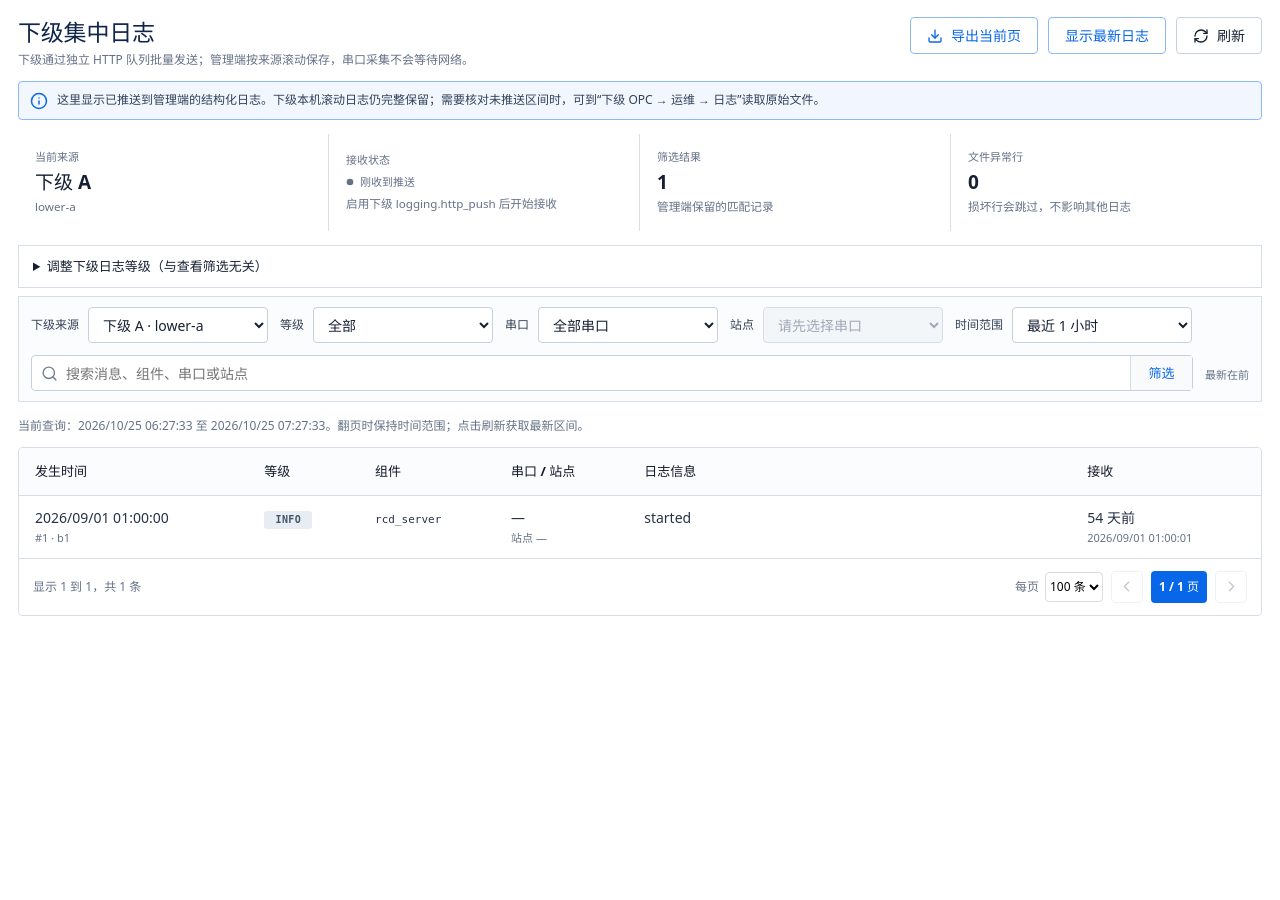
Test case: central lower log filters › shows the active lower logging state and saves a revision-pinned level
Click the heading "调整下级日志等级（与查看筛选无关）" at (157, 266), box [47,257,268,275]
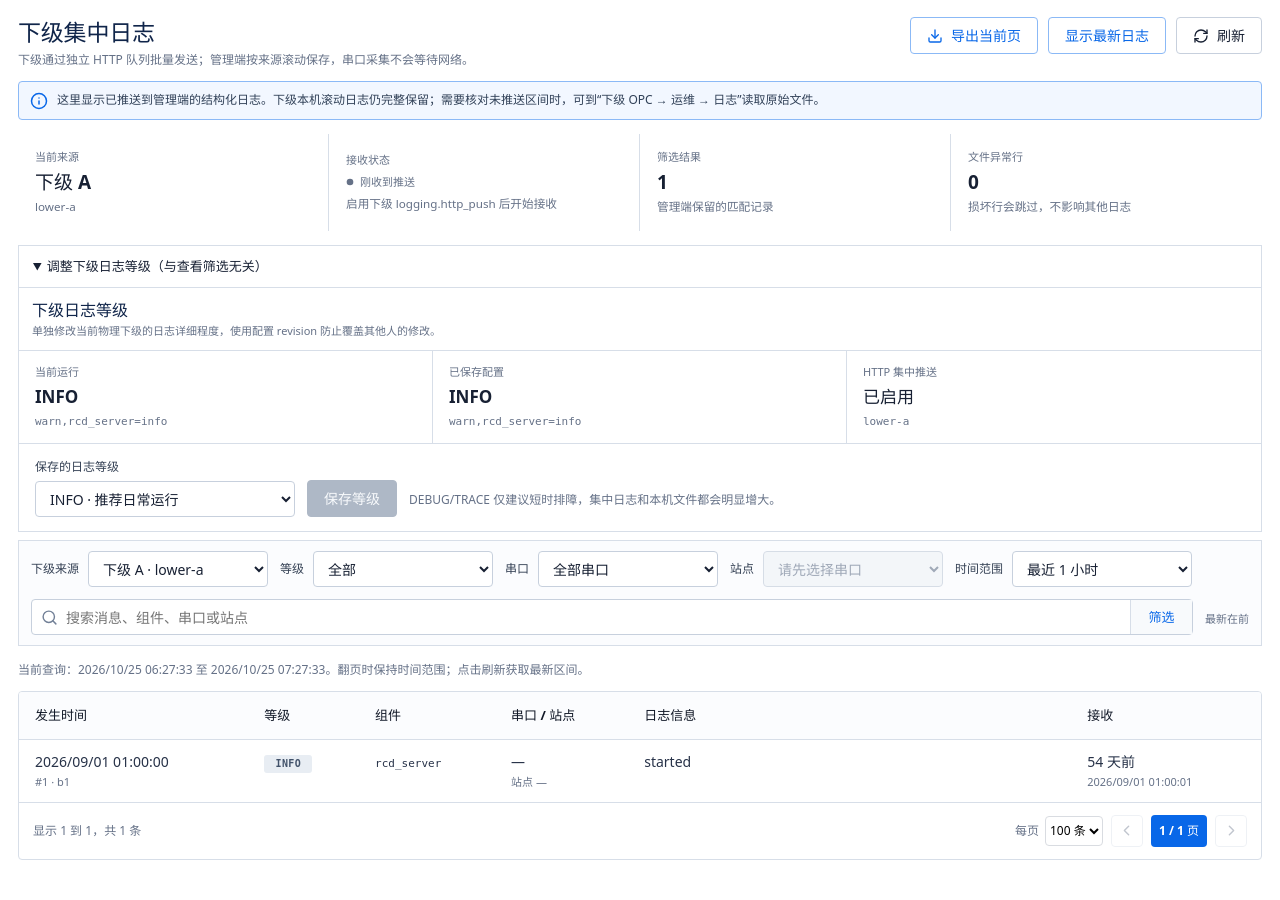
expect the text "HTTP 集中推送" is shown: met, box [863,364,937,379]
expect the text "已启用" is shown: met, box [863,385,914,408]
Select "DEBUG · 详细排障" in the dropdown labelled "保存的日志等级" at (165, 499), box [35,481,295,517]
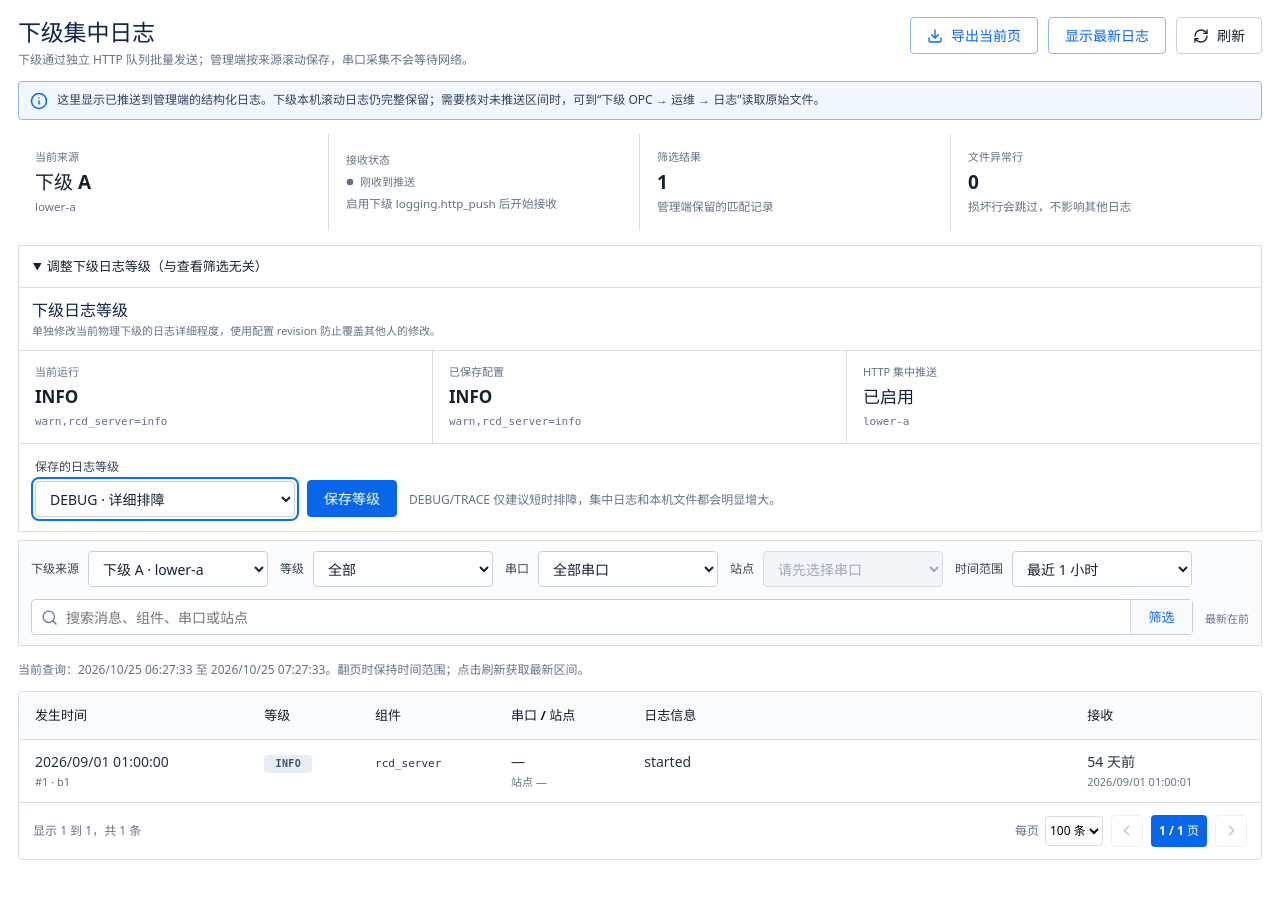
Click the button "保存等级" at (352, 499), box [307,480,397,517]
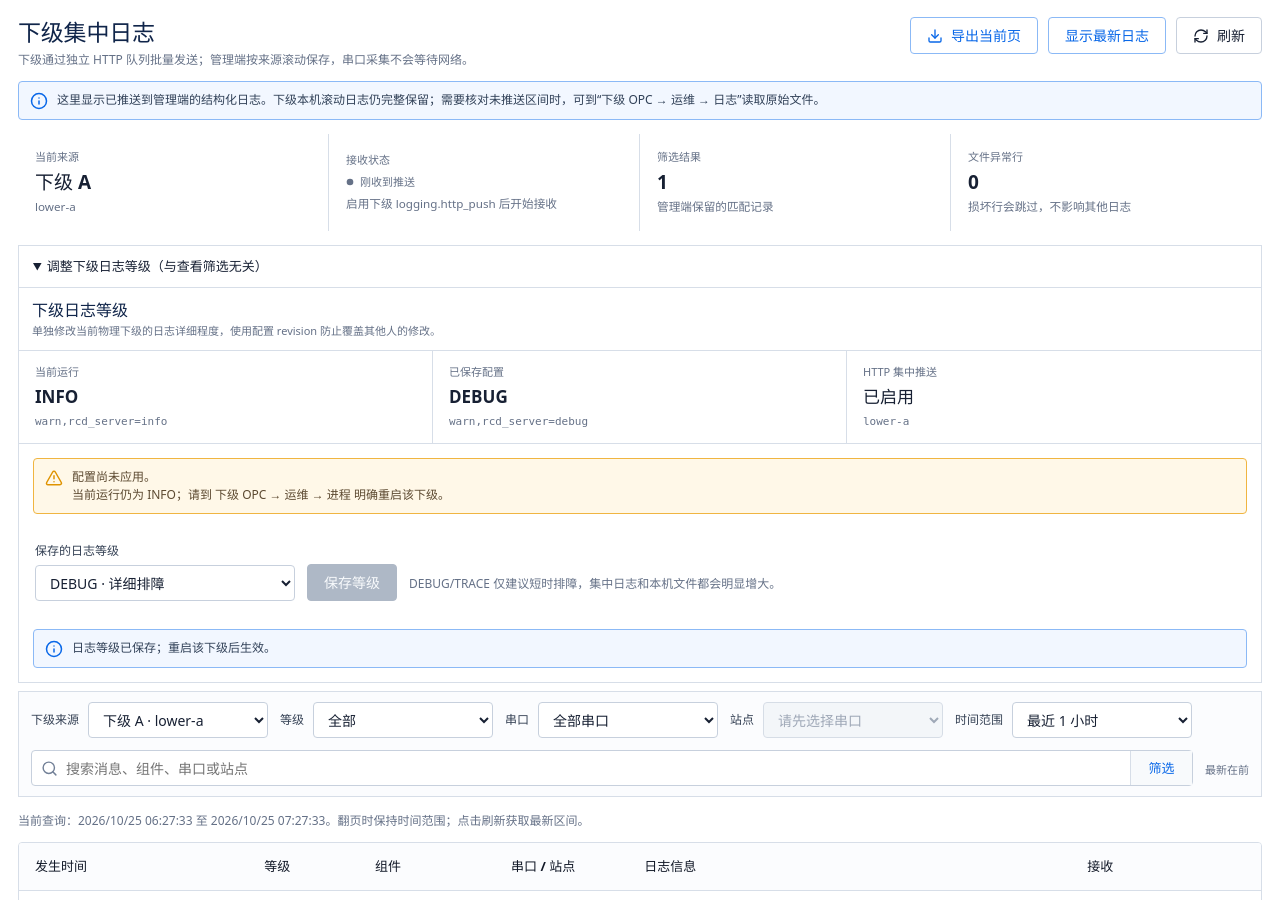
expect the text "日志等级已保存；重启该下级后生效。" is shown: met, box [72,639,276,657]
expect the text "配置尚未应用。" is shown: met, box [72,468,156,485]
